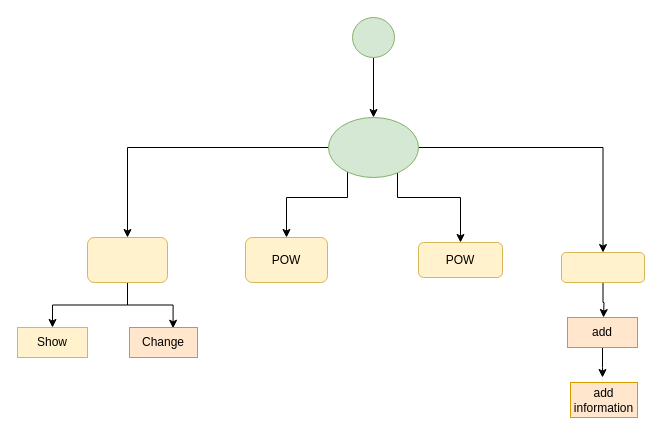
The diagram is 662 pixels wide and 435 high, and some of its shapes have lost their labels. The box of each missing label's shape, as (x1, y1, x2, y2) in pixels:
NODE: (560, 252, 644, 282)
SELECT: (328, 116, 418, 178)
SPEED: (86, 236, 168, 282)
